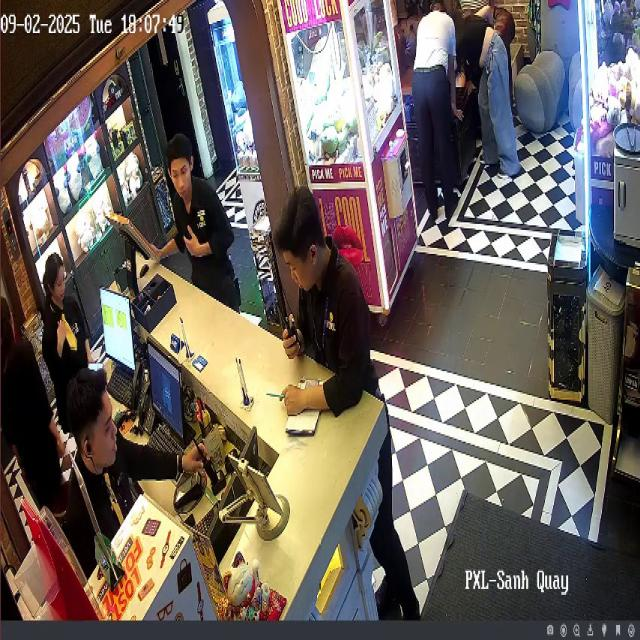khach: (450, 0, 523, 188), (409, 0, 465, 213)
nhan vien: (273, 182, 425, 617), (65, 358, 212, 563), (145, 145, 250, 336), (0, 288, 68, 492), (33, 242, 92, 406)
